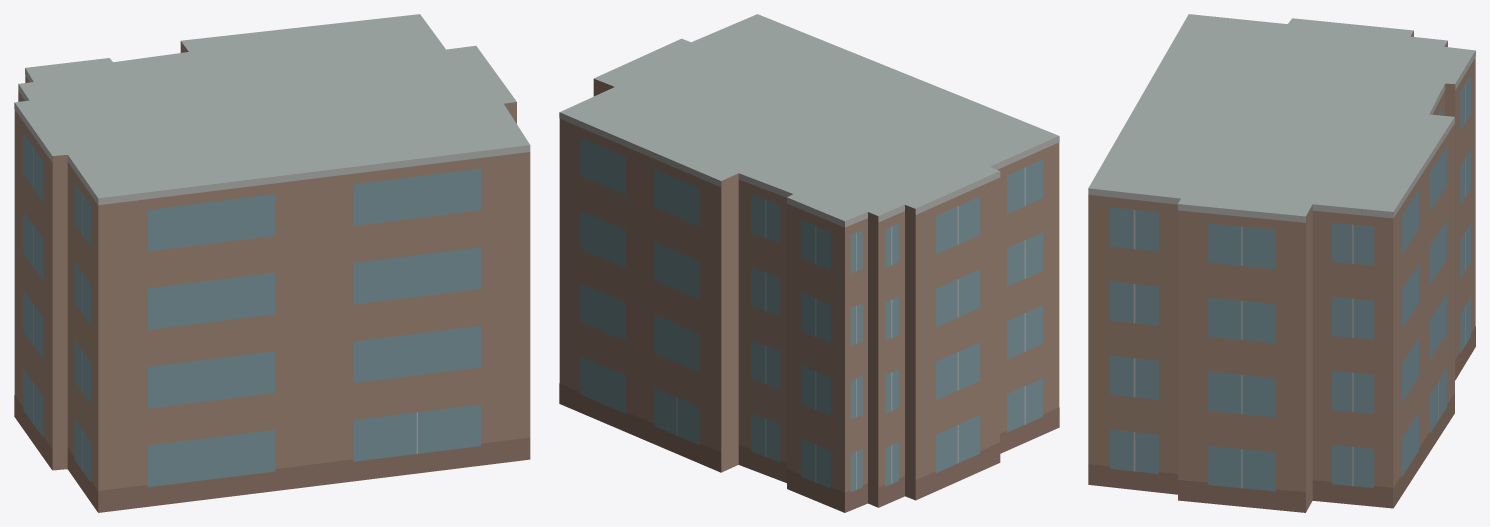
The model's file is survey-upis-32701766.glb.
The picture shows the model from 3 angles, left to right: view 1: azimuth 30°, elevation 25°; view 2: azimuth 150°, elevation 25°; view 3: azimuth 270°, elevation 25°; orthographic projection. The views are drawn at different scales.
Visible parts, largest first — view 1: survey-upis-32701766.tmp; view 2: survey-upis-32701766.tmp; view 3: survey-upis-32701766.tmp.
Part boxes in pixels (x1,y1,x2,y2): survey-upis-32701766.tmp: (14,14,530,512); survey-upis-32701766.tmp: (559,14,1059,512); survey-upis-32701766.tmp: (1088,14,1475,512).
Bounding box in the file's own units: 16.62 × 11.34 × 13.44.
